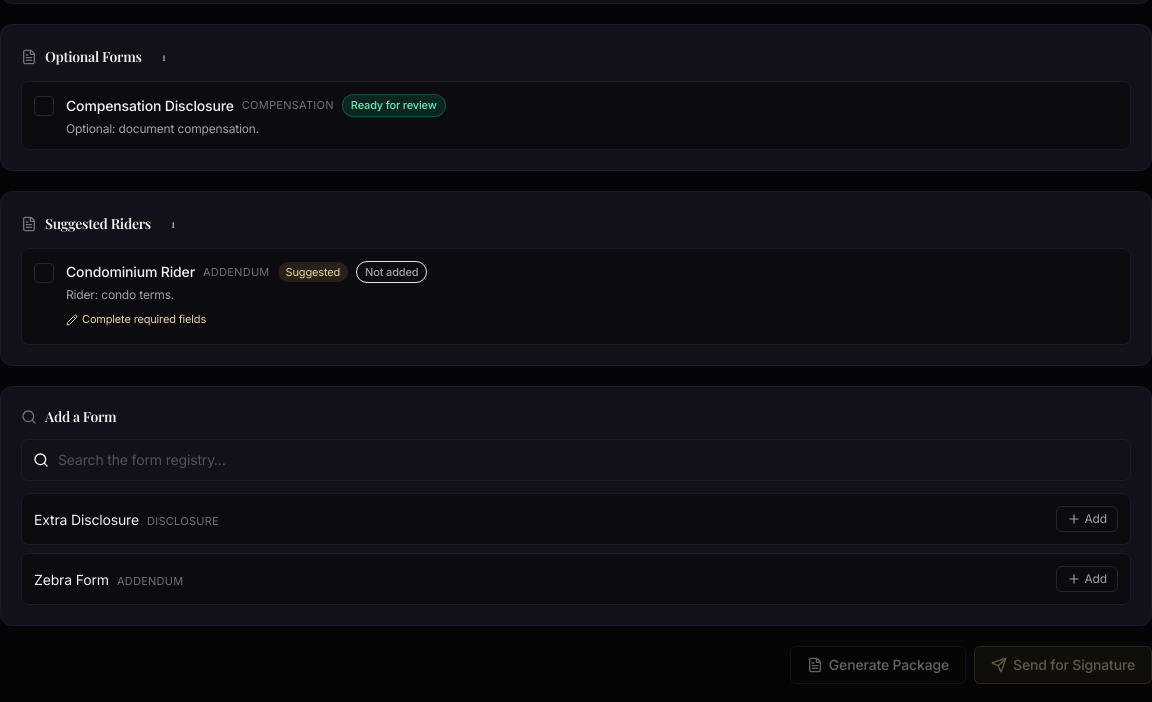
Test: PackageReview › search filters the registry pool and can add a form
(page scrolled)
Expected: the text "Extra Disclosure" is shown, top-left (34, 510), bottom-right (139, 528)
Expected: the text "Zebra Form" is shown, top-left (34, 570), bottom-right (109, 588)
Type "zebra" into the field named "Search forms".
click(576, 460); type("zebra")  # box top-left (21, 438), bottom-right (1131, 480)
(page scrolled)
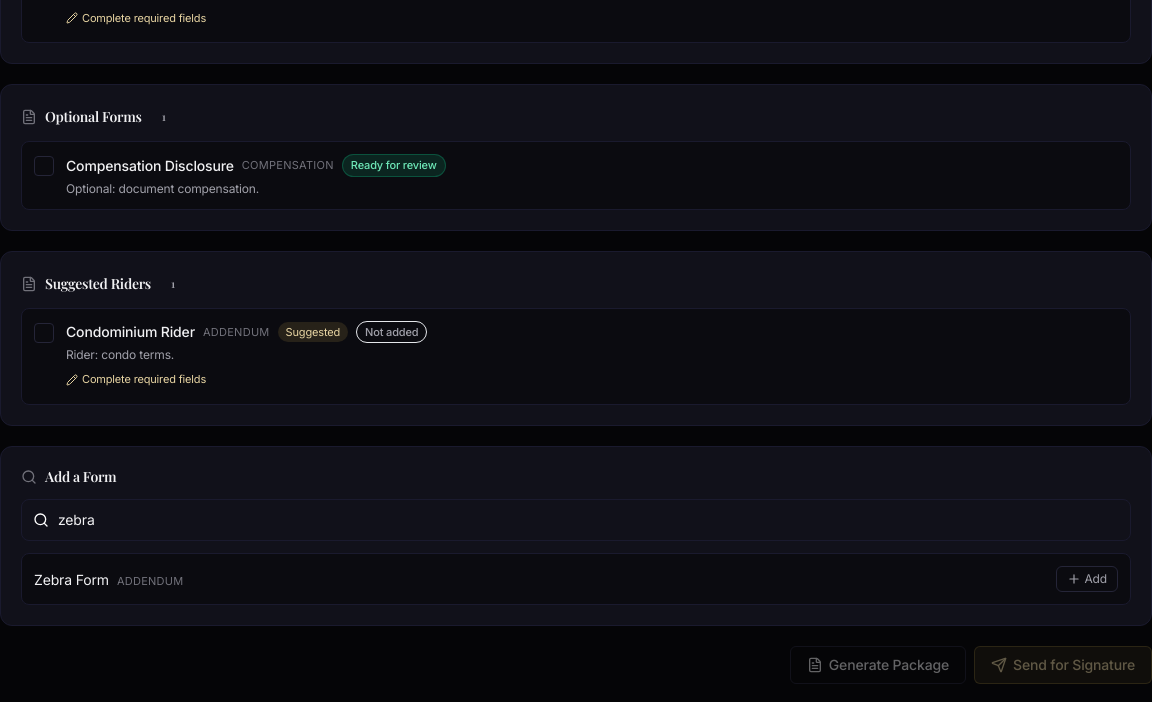
Expected: the text "Zebra Form" is shown, top-left (34, 570), bottom-right (109, 588)
Now the text "Extra Disclosure" is gone
Click the button with aria-label "Add Zebra Form".
click(1087, 578)  # box top-left (1056, 566), bottom-right (1118, 592)
(page scrolled)
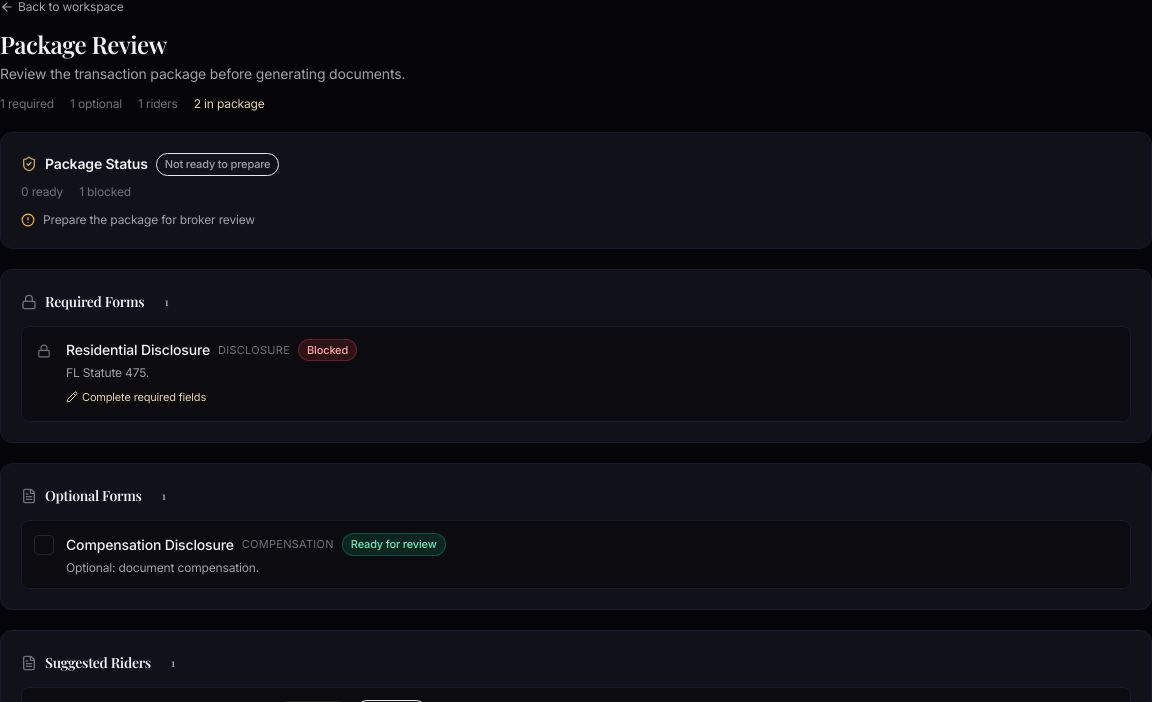
Now the text "2 in package" is shown, box top-left (194, 96), bottom-right (265, 112)
